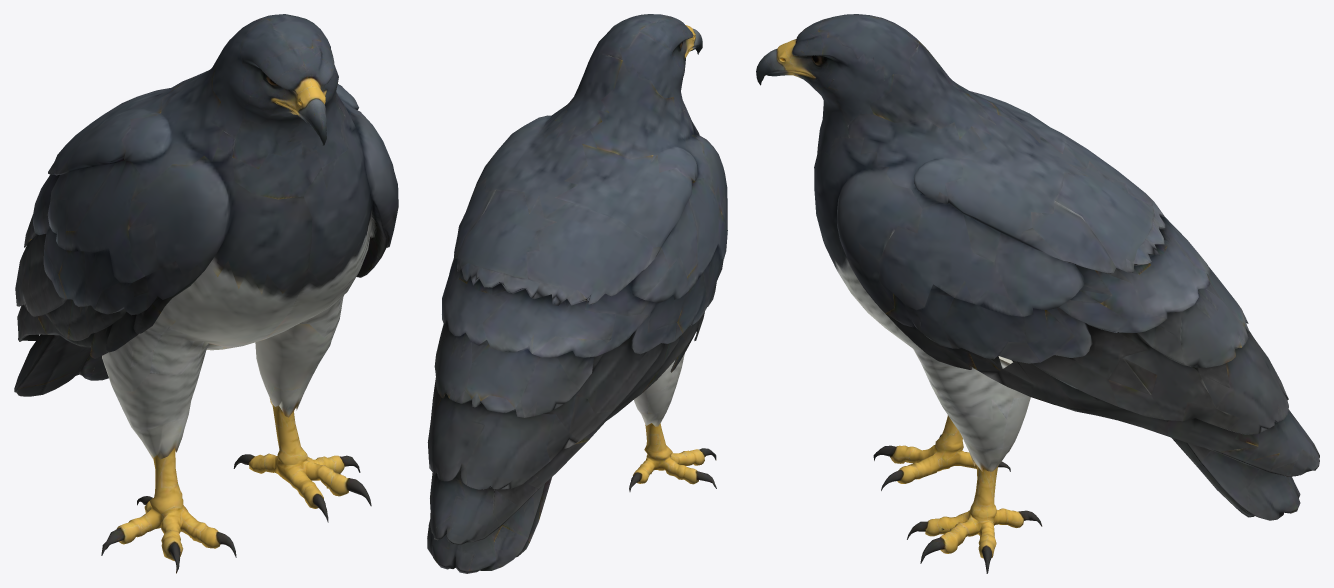
Rendered from eagle-subaru.glb.
The picture shows the model from 3 angles, left to right: view 1: azimuth 30°, elevation 25°; view 2: azimuth 150°, elevation 25°; view 3: azimuth 270°, elevation 25°; orthographic projection. The views are drawn at different scales.
Parts seen in each view (by area): view 1: geometry_0; view 2: geometry_0; view 3: geometry_0.
Boxes of the visible parts, x1,y1,x2,y2 form: geometry_0: (14, 14, 398, 573); geometry_0: (427, 14, 727, 573); geometry_0: (756, 14, 1319, 573).
Bounding box in the file's own units: 0.5092 × 0.918 × 0.9536.
Materials: 1 (1 with a texture image).
